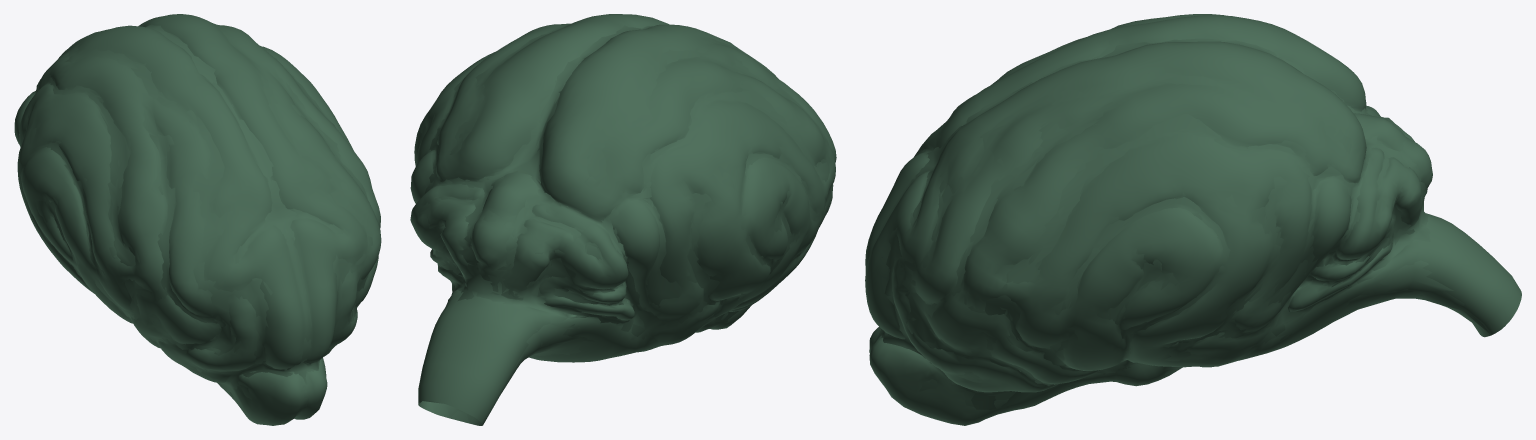
Rendered from Brain.fbx.
The picture shows the model from 3 angles, left to right: view 1: azimuth 30°, elevation 25°; view 2: azimuth 150°, elevation 25°; view 3: azimuth 270°, elevation 25°; orthographic projection. The views are drawn at different scales.
Parts seen in each view (by area): view 1: Brain high, Brain low, Brain; view 2: Brain high, Brain low, Brain; view 3: Brain high, Brain low, Brain.
Part boxes in pixels (bbox=[...]): Brain high: bbox=[14, 14, 381, 425]; Brain low: bbox=[33, 24, 372, 416]; Brain: bbox=[20, 23, 372, 416]; Brain high: bbox=[410, 14, 836, 425]; Brain low: bbox=[418, 24, 830, 425]; Brain: bbox=[418, 19, 831, 425]; Brain high: bbox=[865, 14, 1521, 425]; Brain low: bbox=[872, 38, 1489, 410]; Brain: bbox=[875, 36, 1490, 418].
Size of the model in its own units: 2.19 by 2.25 by 3.48.
